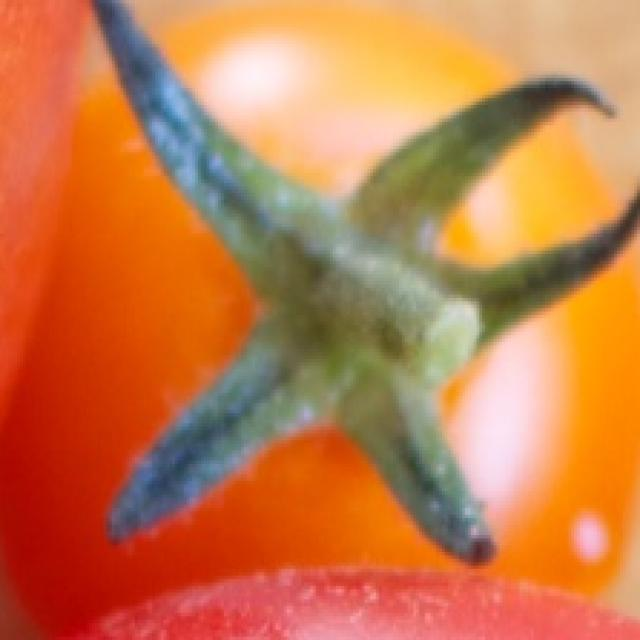Orange: (0, 3, 640, 640)
